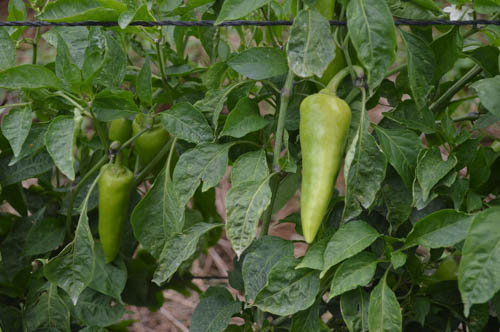ChiliPepper: (295, 95, 354, 246), (98, 167, 135, 265), (135, 120, 181, 180)
